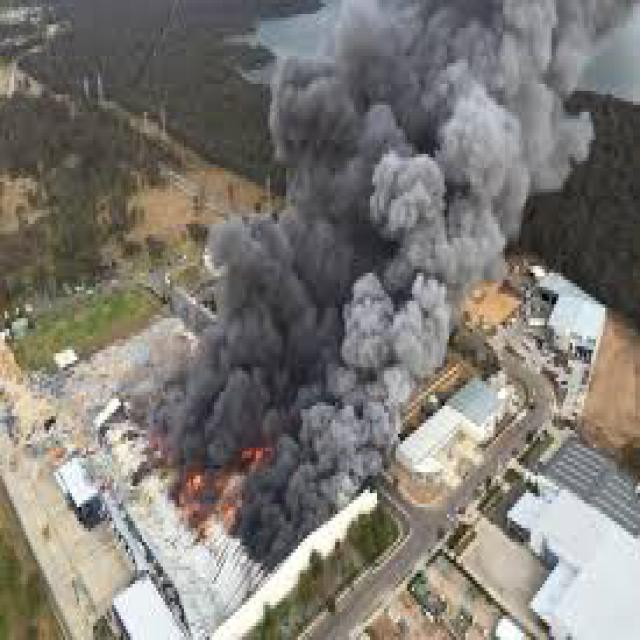smoke: (152, 4, 480, 535), (358, 3, 596, 301)
